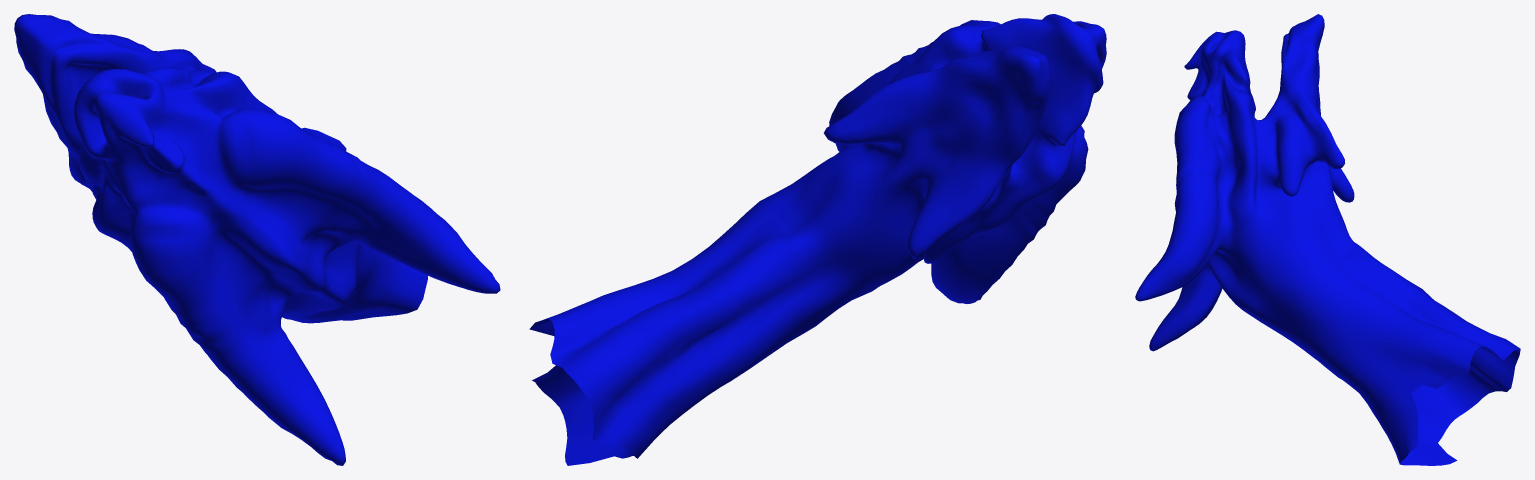
File: Cabeza4.obj
3 views of the same model, side by side, from view 1: azimuth 30°, elevation 25°; view 2: azimuth 150°, elevation 25°; view 3: azimuth 270°, elevation 25° (orthographic). The views are drawn at different scales.
Parts seen in each view (by area): view 1: Cabeza4; view 2: Cabeza4; view 3: Cabeza4.
Part boxes in pixels (left/top/right/bottom): Cabeza4: left=14, top=14, right=500, bottom=465; Cabeza4: left=529, top=14, right=1106, bottom=465; Cabeza4: left=1135, top=14, right=1520, bottom=465.
Size of the model in its own units: 2.2 by 2.04 by 2.27.
Materials: 1 (1 with a texture image).
